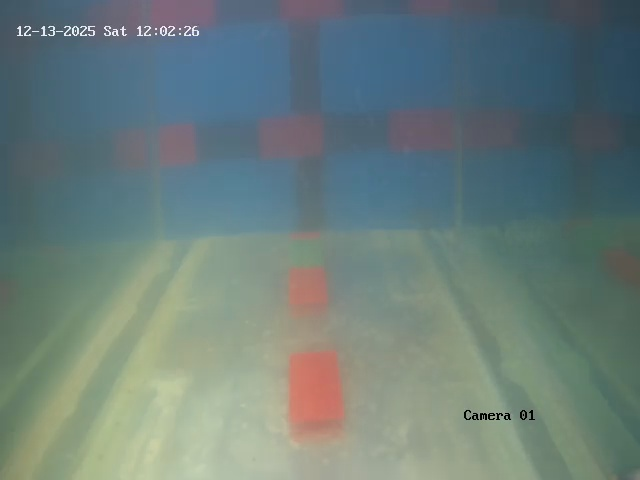fish: (393, 201, 446, 252)
